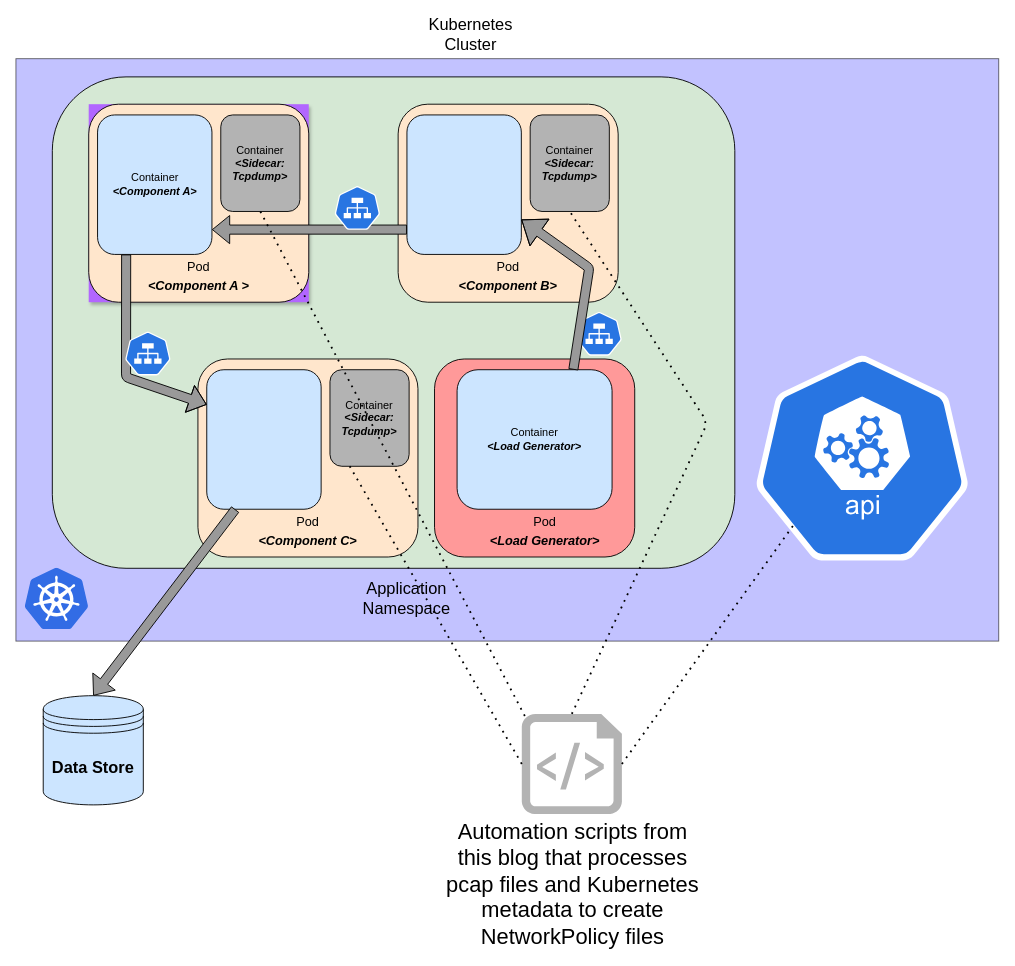
Image size: 1015x966. Some labels were removed from this diagram. The shapes that lost their labels are listed below. From the top down, each one's centre as x and y in pixels, then its label:
At (463,184): "Container <Component B>".
At (263,439): "Container <Component C>".
